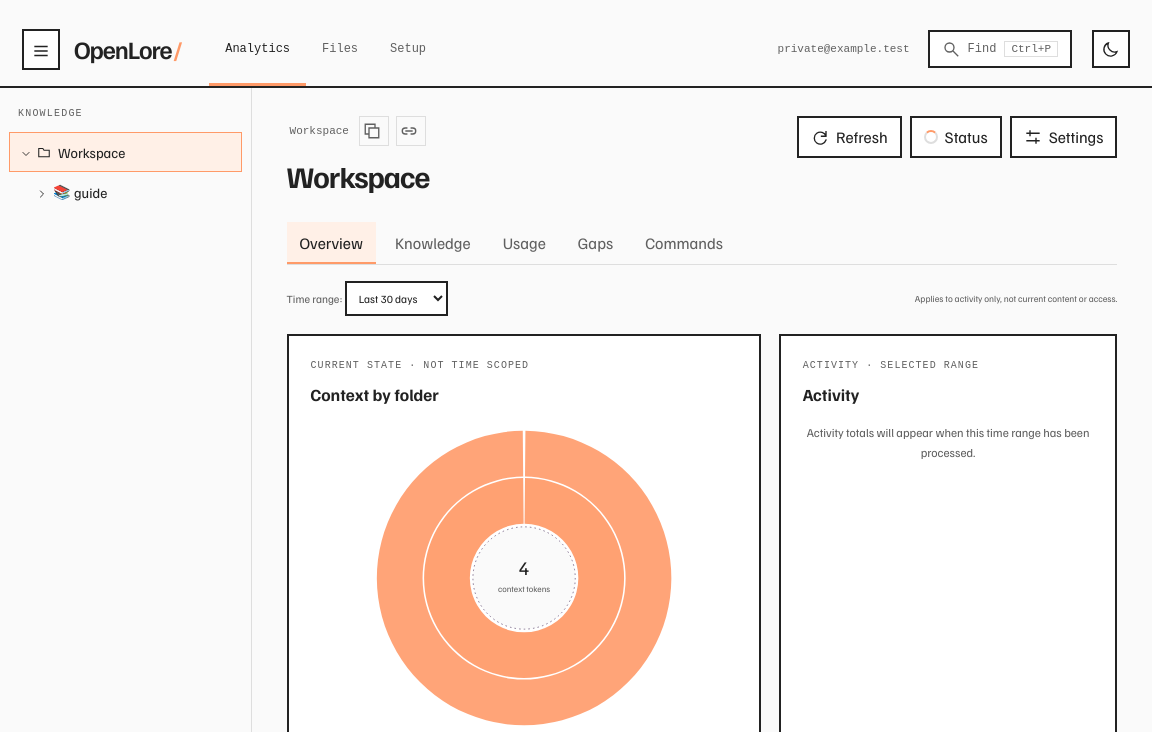
Test: cold usage with null activity stays usable until a complete result arrives
The width and height of the screenshot is (1152, 732).
Expected: the text "Activity totals will appear when this time range has been processed." is shown, [803, 423, 1093, 463]
Expected: the heading "Context by folder" is shown, [310, 384, 439, 405]
Click the button with aria-label "Refresh analytics" at (849,137), box [797, 116, 902, 158]
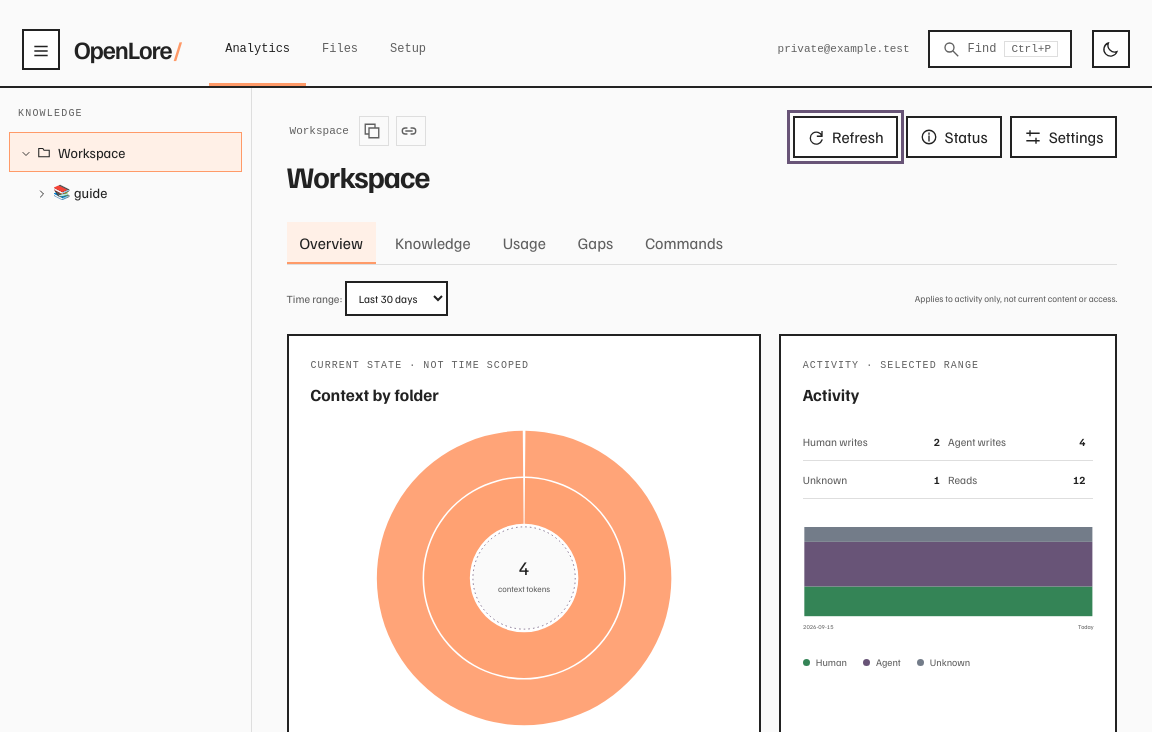
Expected: the picture named "Daily activity stacked by attribution" is shown, [803, 527, 1093, 632]
